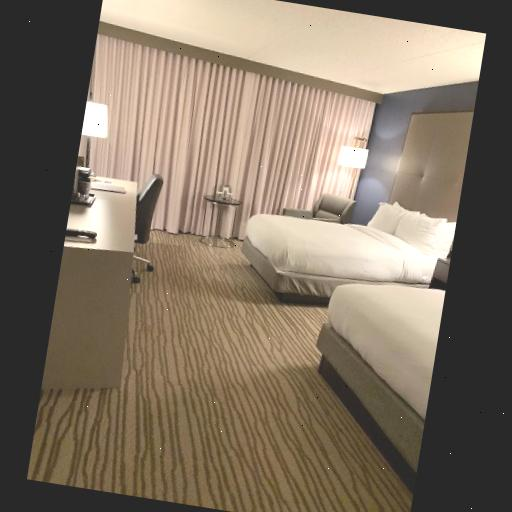chair: (118, 170, 164, 286)
clean_bed: (239, 114, 470, 297), (311, 283, 440, 490)
clean_floor: (36, 228, 417, 512)
lamp: (330, 124, 382, 188), (74, 94, 118, 158)
organised_pillow: (362, 199, 452, 263)
organized table: (41, 165, 135, 394), (186, 176, 248, 256)
